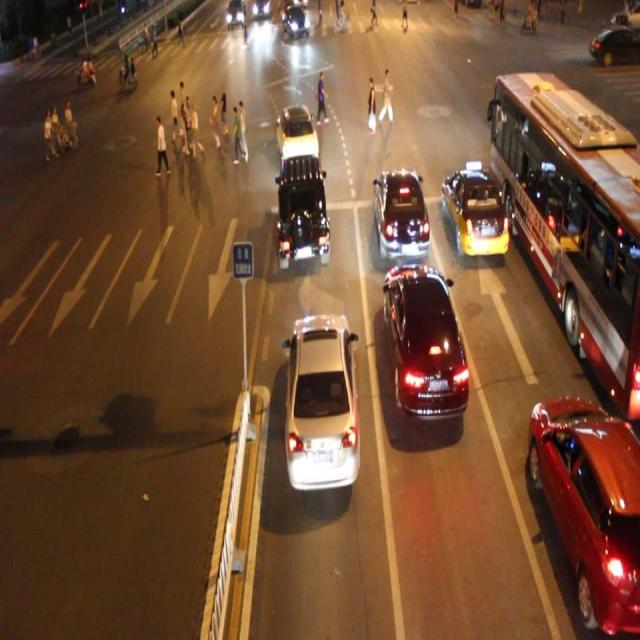car: (527, 395, 640, 631), (380, 261, 467, 419), (286, 312, 359, 487), (441, 170, 508, 260), (276, 157, 329, 266), (372, 167, 429, 264), (275, 103, 319, 166), (282, 1, 310, 40)
van: (491, 71, 640, 418)
